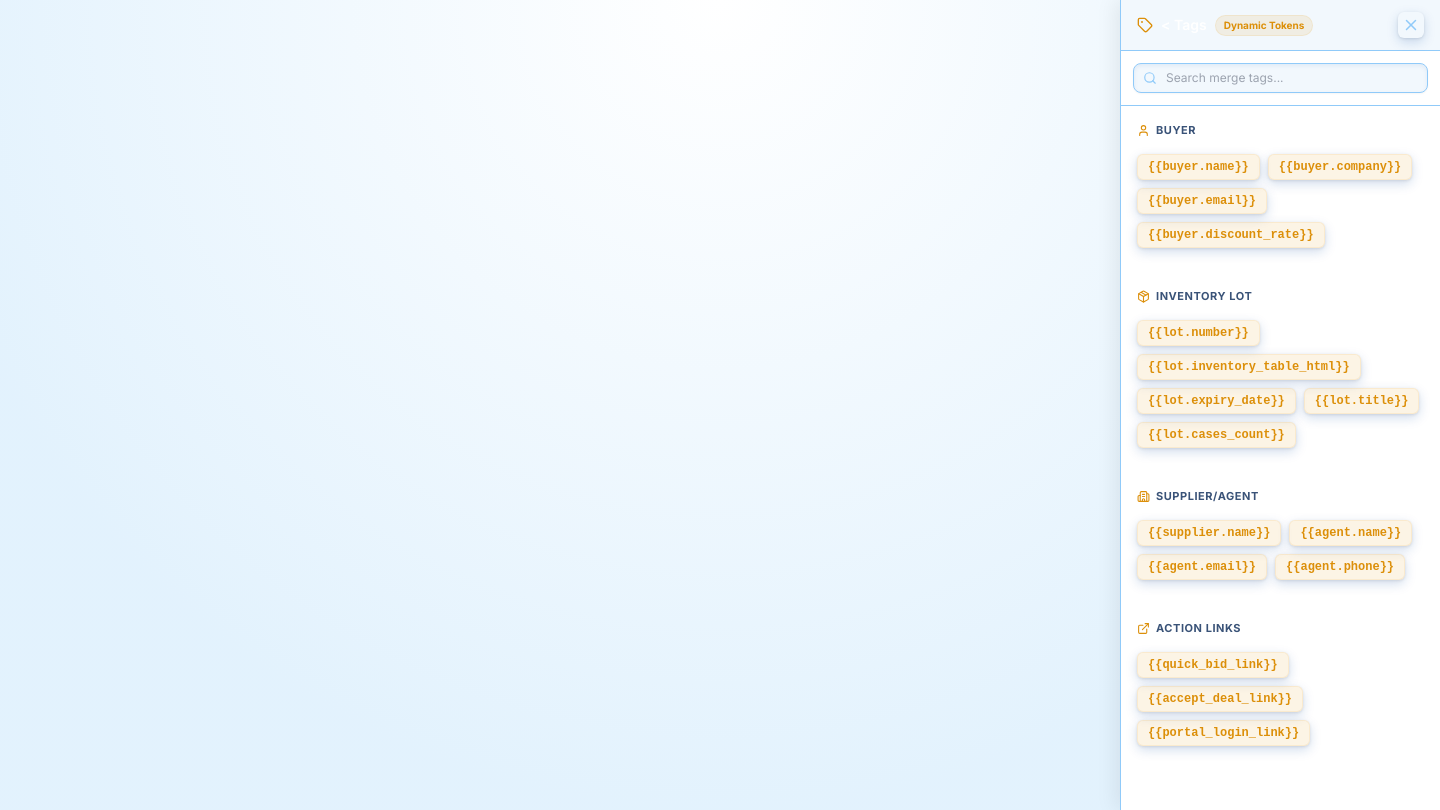
it: EmailMetadataForm & TagsDrawer - Slice 3 TDD › Seam 2: TagsDrawer › filters merge tag pills when searching in the search bar
This screenshot has width=1440, height=810.
Type "inventory_table" into the field with placeholder "Search merge tags..." at (1280, 78), box [1133,63,1428,93]
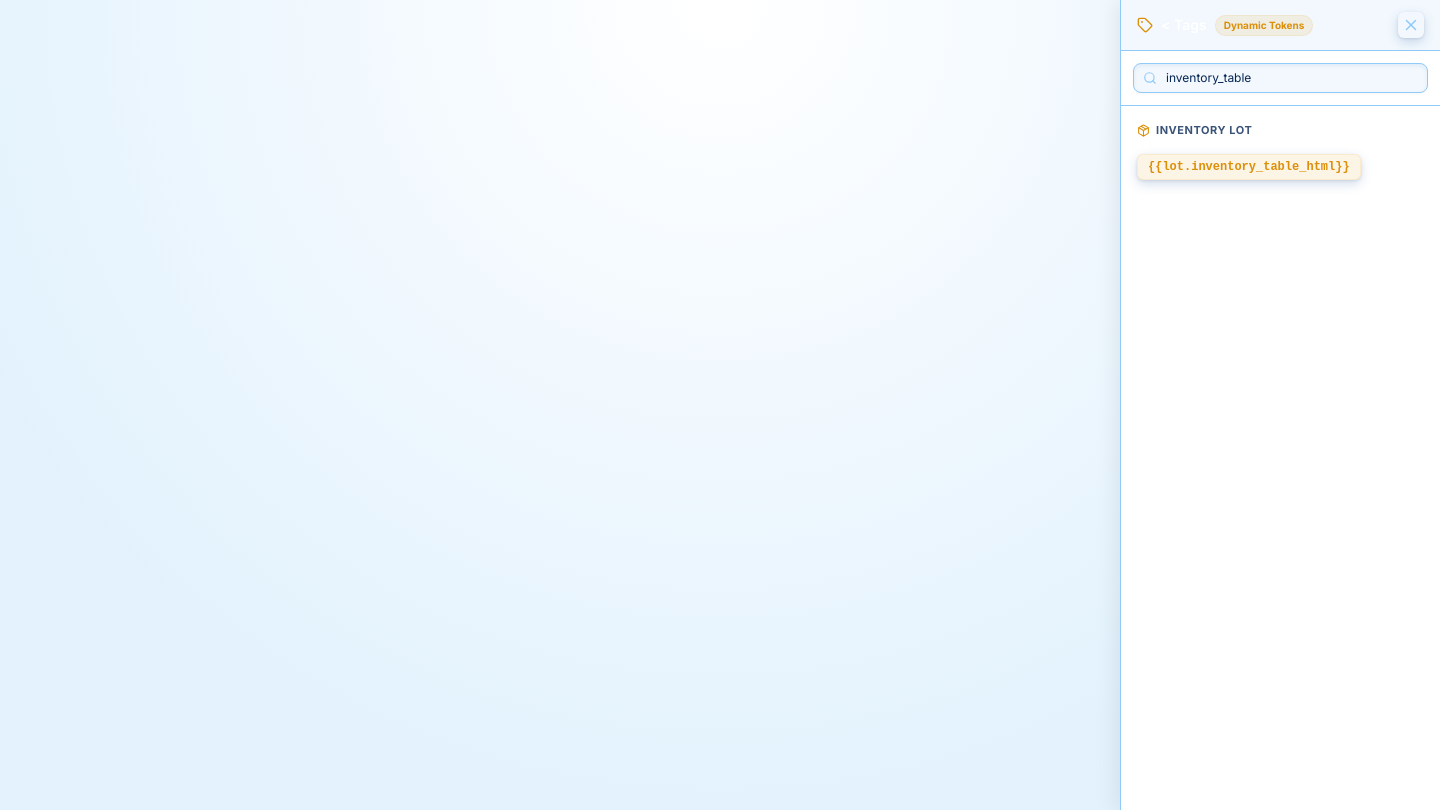
Check: the button "{{lot.inventory_table_html}}" is shown, box [1137,154,1361,180]
Check: the button "{{buyer.name}}" is gone
